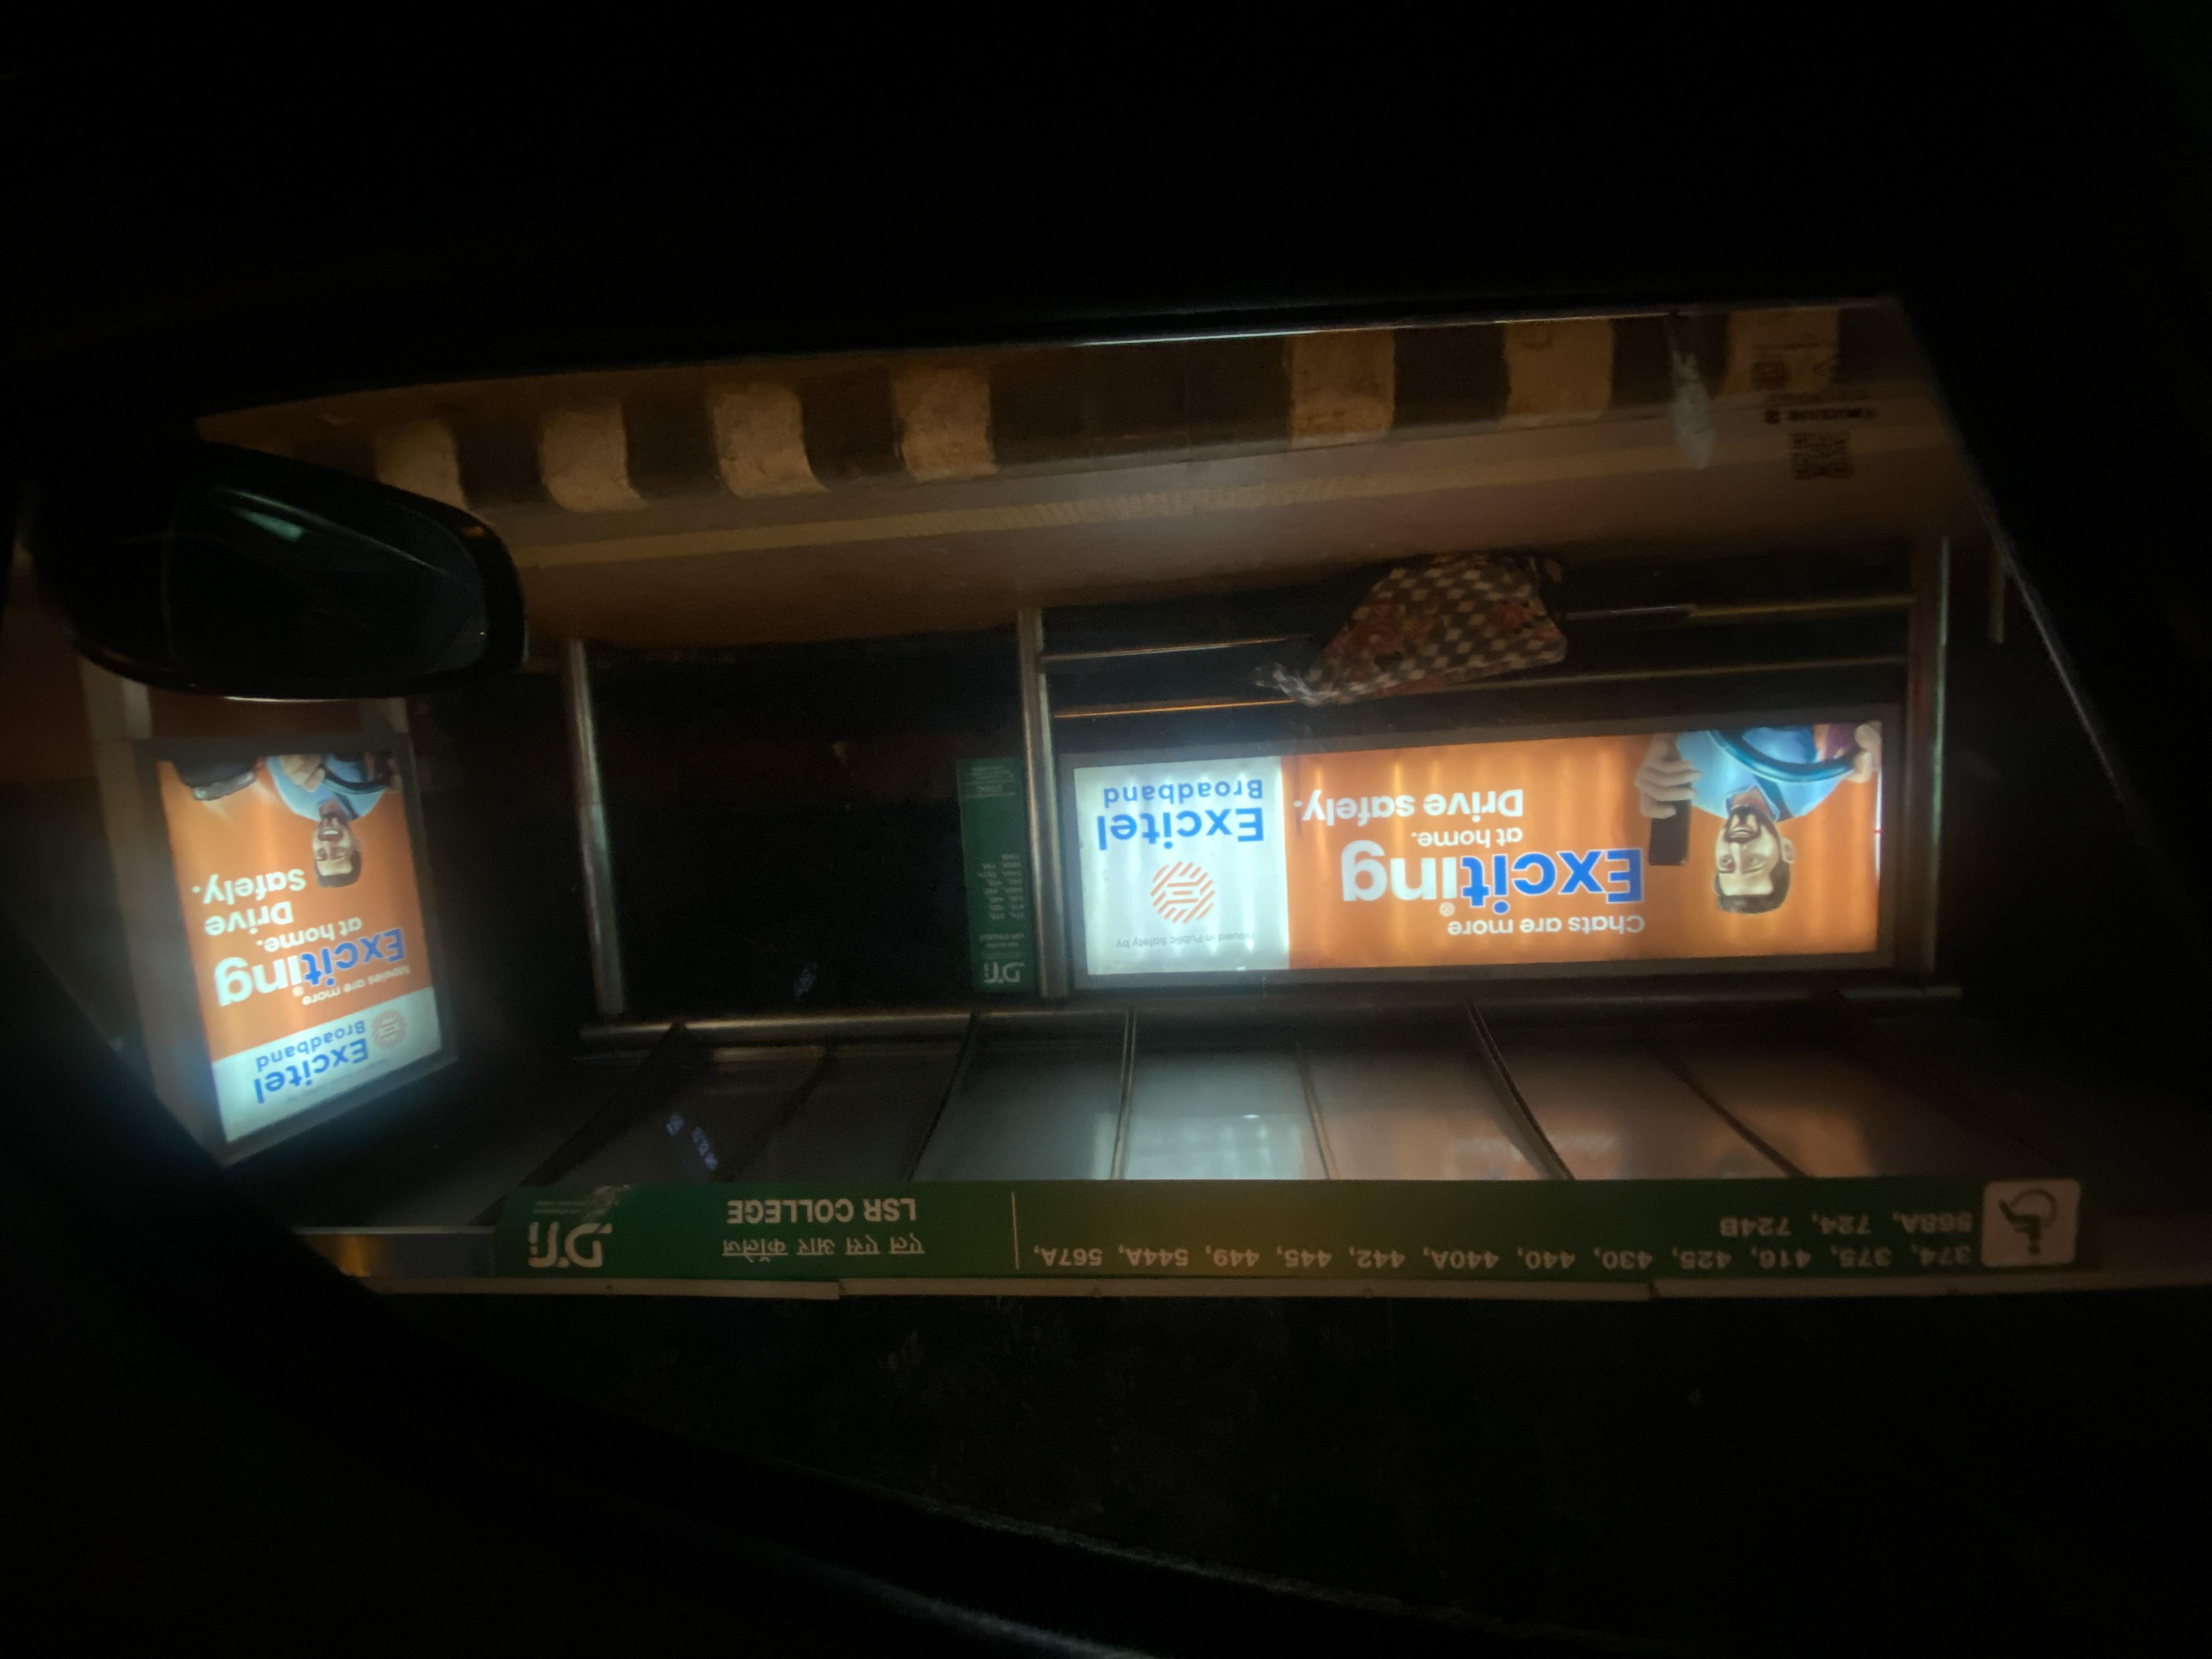Bus-stop-board: (505, 1175, 2118, 1305)
